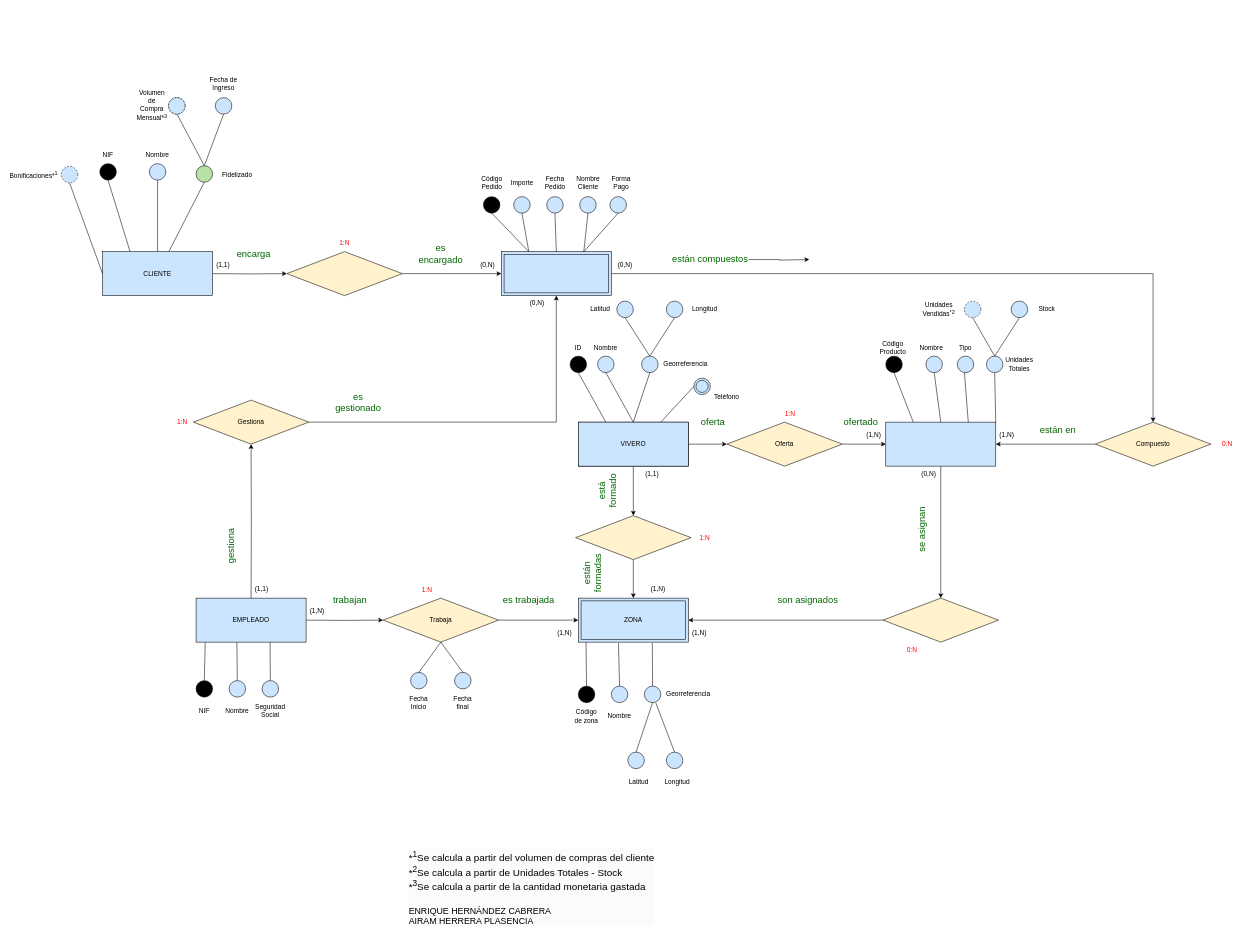
Some shapes in this 1253 by 943 pixel diagram are drawn without their labels. Each missing label, with the centre of its shape:
Asigna: the point at 940,620
Encargan: the point at 344,273
Formado: the point at 633,537
PEDIDOS: the point at 556,273
PRODUCTOS: the point at 940,444
